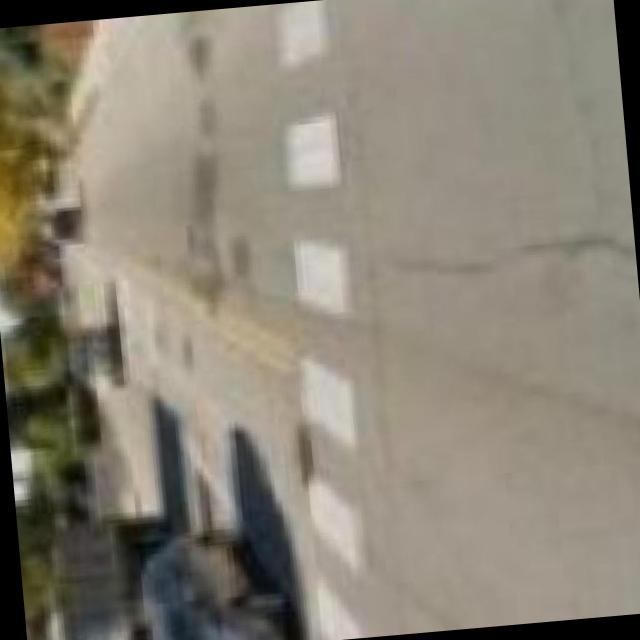zebra: (272, 0, 372, 640)
